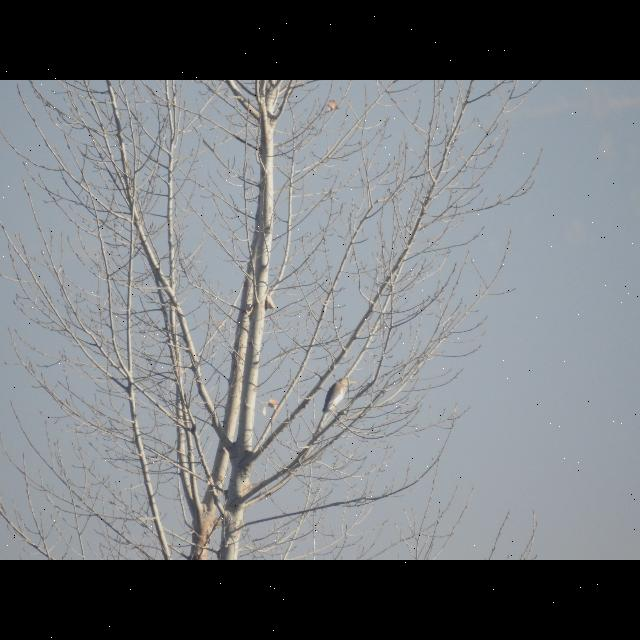heron: (321, 374, 362, 422)
